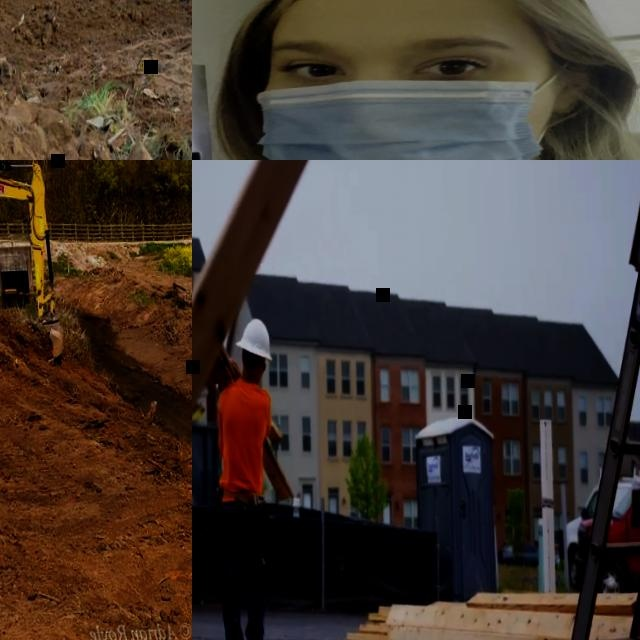Hardhat: (233, 316, 272, 362)
Mask: (250, 78, 532, 160)
NO-Hardhat: (257, 0, 591, 39)
NO-Safety Vest: (216, 380, 272, 501)
Person: (192, 0, 640, 160), (210, 316, 284, 640)
machinery: (0, 160, 64, 370)
vehicle: (569, 471, 640, 595), (564, 478, 616, 583)
